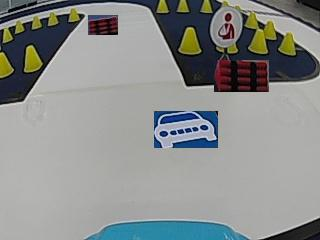cone: (178, 27, 202, 56), (22, 44, 45, 74), (249, 29, 269, 55), (280, 29, 297, 57), (0, 49, 13, 77), (2, 25, 15, 43), (29, 14, 43, 29), (152, 0, 168, 13), (68, 9, 81, 23), (14, 19, 26, 34), (178, 0, 190, 13), (201, 0, 213, 13), (48, 12, 59, 26), (246, 14, 257, 28)
patient: (214, 6, 241, 46)
